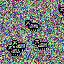sheep: (25, 20, 39, 31), (12, 40, 26, 51), (7, 45, 21, 56), (34, 39, 48, 50), (59, 7, 64, 16)
